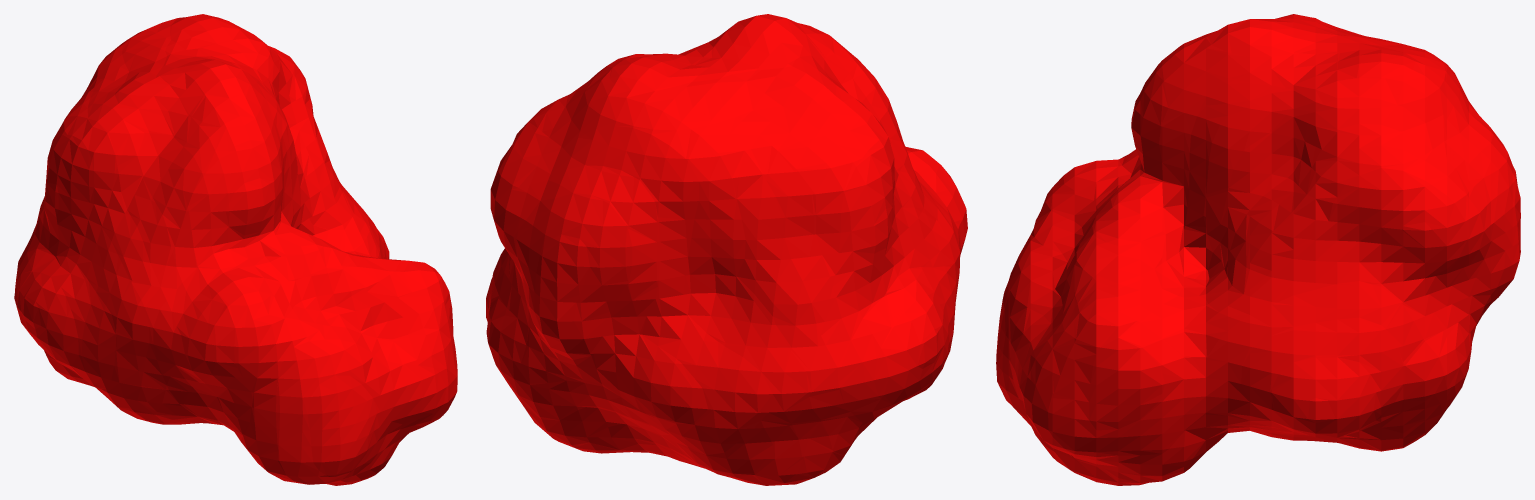
The model's file is fabD_coarse.dae.
3 renders of one model, left to right at view 1: azimuth 30°, elevation 25°; view 2: azimuth 150°, elevation 25°; view 3: azimuth 270°, elevation 25°, orthographic. The views are drawn at different scales.
Parts seen in each view (by area): view 1: fabD; view 2: fabD; view 3: fabD.
Part boxes in pixels (<box>): fabD: <box>14,14,457,485</box>; fabD: <box>486,14,967,485</box>; fabD: <box>996,14,1520,485</box>.
Bounding box in the file's own units: 49.7 × 49.7 × 56.55.
